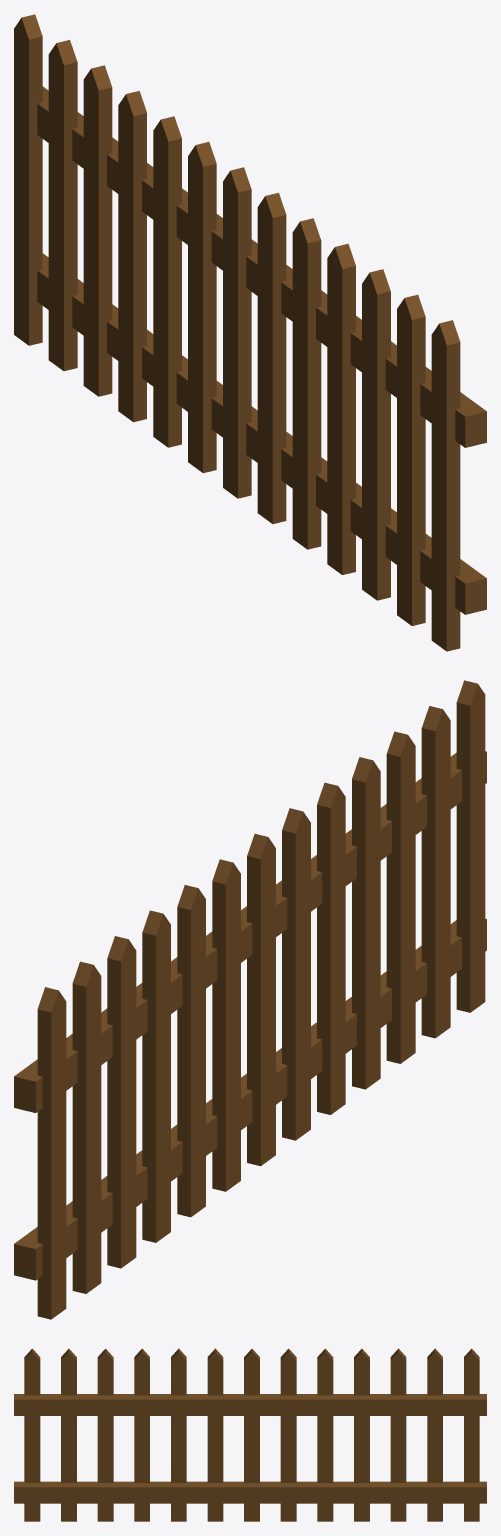
The model's file is Fence 9.fbx.
3 renders of one model, top to bottom at view 1: azimuth 30°, elevation 25°; view 2: azimuth 150°, elevation 25°; view 3: azimuth 270°, elevation 25°, orthographic. The views are drawn at different scales.
Parts seen in each view (by area): view 1: Fence_9; view 2: Fence_9; view 3: Fence_9.
Boxes of the visible parts, left/top/right/bottom form: Fence_9: left=14, top=14, right=486, bottom=651; Fence_9: left=14, top=680, right=486, bottom=1319; Fence_9: left=14, top=1348, right=486, bottom=1521.
Size of the model in its own units: 16.01 by 163 by 412.
1 material, 1 textured.
